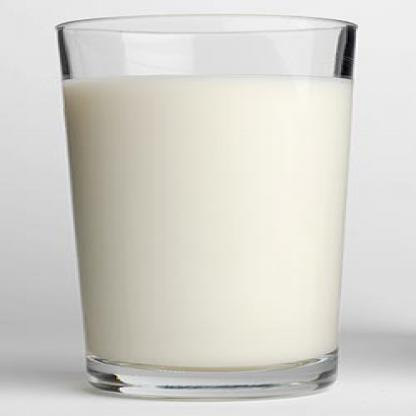milk: (49, 12, 350, 400)
